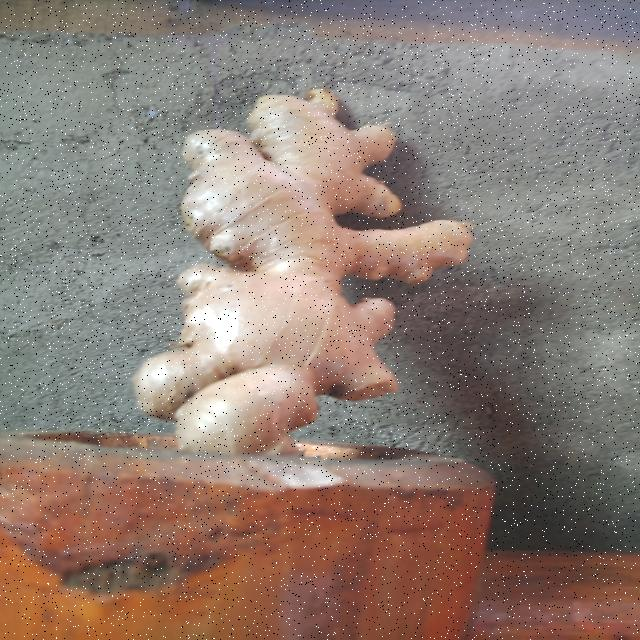ginger: (112, 81, 484, 463)
